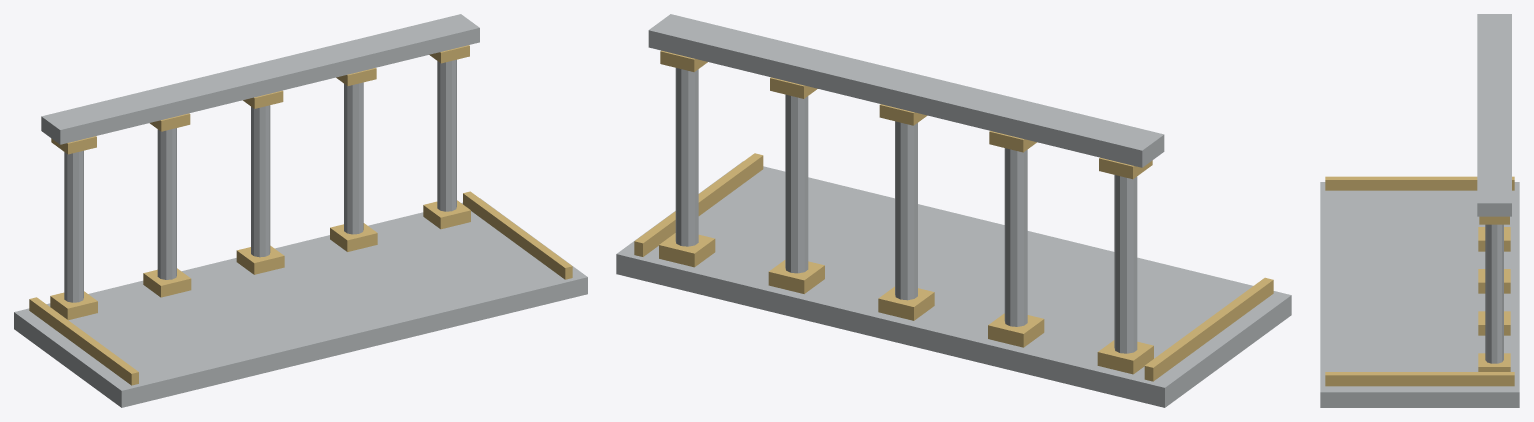
Rendered from arena_mount_olympus.glb.
The picture shows the model from 3 angles, left to right: view 1: azimuth 30°, elevation 25°; view 2: azimuth 150°, elevation 25°; view 3: azimuth 270°, elevation 25°; orthographic projection. The views are drawn at different scales.
Parts seen in each view (by area): view 1: FLOOR, ENTABLATURE, COLUMN, COLUMN.001, COLUMN.003, COLUMN.004, COLUMN.002, BOUNDARY, BOUNDARY.001, COLUMN_BASE.002, COLUMN_BASE.001, COLUMN_BASE.003 (+2 smaller); view 2: FLOOR, ENTABLATURE, COLUMN.003, COLUMN, COLUMN.004, COLUMN.001, COLUMN.002, BOUNDARY, BOUNDARY.001, COLUMN_BASE.001, COLUMN_BASE.004, COLUMN_BASE.003 (+6 smaller); view 3: FLOOR, ENTABLATURE, BOUNDARY.001, COLUMN.004, BOUNDARY, COLUMN_BASE.004, COLUMN_BASE.001, COLUMN_BASE.002, COLUMN_BASE.003, CAPITAL.004.
Part boxes in pixels (x1,y1,x2,y2): FLOOR: (14,198,587,407); ENTABLATURE: (41,14,479,144); COLUMN: (64,150,83,302); COLUMN.001: (157,128,176,279); COLUMN.003: (344,82,363,234); COLUMN.004: (437,59,456,211); COLUMN.002: (251,105,270,257); BOUNDARY: (29,297,138,385); BOUNDARY.001: (463,191,572,279); COLUMN_BASE.002: (236,245,284,274); COLUMN_BASE.001: (143,268,191,297); COLUMN_BASE.003: (330,223,377,251); FLOOR: (616,161,1291,407); ENTABLATURE: (648,14,1164,167); COLUMN.003: (785,94,808,273); COLUMN: (1114,175,1137,353); COLUMN.004: (675,68,698,246); COLUMN.001: (1004,148,1027,326); COLUMN.002: (895,121,917,300); BOUNDARY: (1144,277,1273,381); BOUNDARY.001: (634,153,763,256); COLUMN_BASE.001: (988,313,1044,347); COLUMN_BASE.004: (659,233,715,267); COLUMN_BASE.003: (768,260,824,293); FLOOR: (1320,182,1519,407); ENTABLATURE: (1477,14,1511,216); BOUNDARY.001: (1325,372,1514,386); COLUMN.004: (1485,224,1503,363); BOUNDARY: (1325,176,1514,190); COLUMN_BASE.004: (1478,353,1510,371); COLUMN_BASE.001: (1478,227,1510,251); COLUMN_BASE.002: (1478,269,1510,293); COLUMN_BASE.003: (1478,311,1510,335); CAPITAL.004: (1479,216,1509,224).
Size of the model in its own units: 10 by 4.3 by 4.
